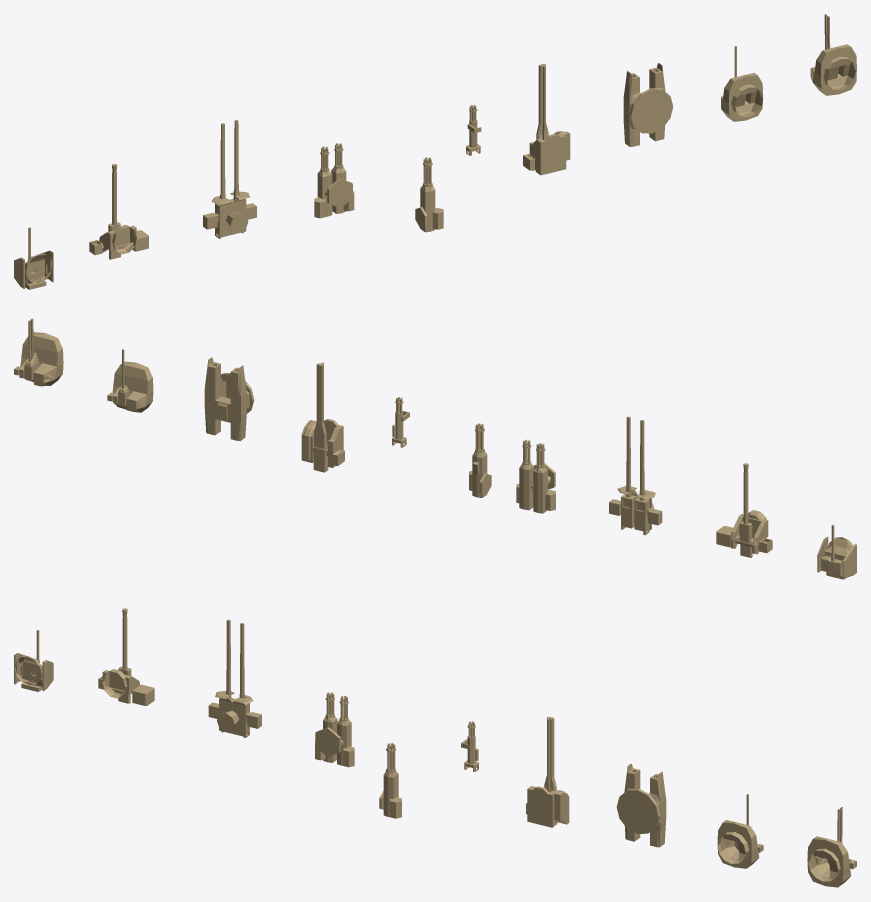
Rendered from пушки.fbx.
3 views of the same model, one above another, from view 1: azimuth 30°, elevation 25°; view 2: azimuth 150°, elevation 25°; view 3: azimuth 330°, elevation 25° (orthographic).
Visible parts, largest first — view 1: Cylinder060, Object019, Box016, Cylinder062, Cylinder057, Cylinder061, Object018, Cylinder059, Object020; view 2: Cylinder060, Box016, Object019, Cylinder062, Cylinder057, Object018, Cylinder061, Cylinder059, Object020, Cylinder058; view 3: Cylinder060, Object019, Box016, Cylinder062, Cylinder057, Cylinder061, Object018, Cylinder059, Object020, Cylinder058.
Part boxes in pixels (x1=…): Cylinder060: x1=623, y1=63, x2=673, y2=146; Object019: x1=203, y1=120, x2=256, y2=238; Box016: x1=523, y1=64, x2=570, y2=175; Cylinder062: x1=810, y1=14, x2=856, y2=95; Cylinder057: x1=314, y1=143, x2=354, y2=218; Cylinder061: x1=721, y1=46, x2=763, y2=121; Object018: x1=89, y1=164, x2=148, y2=259; Cylinder059: x1=14, y1=227, x2=53, y2=289; Object020: x1=415, y1=157, x2=443, y2=232; Cylinder060: x1=204, y1=357, x2=254, y2=441; Box016: x1=301, y1=362, x2=344, y2=472; Object019: x1=609, y1=416, x2=662, y2=535; Cylinder062: x1=14, y1=318, x2=63, y2=386; Cylinder057: x1=516, y1=439, x2=555, y2=513; Object018: x1=716, y1=463, x2=772, y2=557; Cylinder061: x1=107, y1=349, x2=153, y2=412; Cylinder059: x1=817, y1=525, x2=856, y2=579; Object020: x1=469, y1=423, x2=491, y2=497; Cylinder058: x1=392, y1=397, x2=409, y2=447; Cylinder060: x1=616, y1=763, x2=666, y2=847; Object019: x1=208, y1=619, x2=261, y2=737; Box016: x1=526, y1=716, x2=569, y2=827; Cylinder062: x1=807, y1=807, x2=856, y2=887; Cylinder057: x1=315, y1=692, x2=354, y2=767; Cylinder061: x1=717, y1=794, x2=763, y2=868; Object018: x1=98, y1=608, x2=154, y2=705; Cylinder059: x1=14, y1=630, x2=53, y2=691; Object020: x1=379, y1=743, x2=401, y2=818; Cylinder058: x1=461, y1=721, x2=478, y2=771.
Size of the model in its own units: 181 by 28.05 by 12.89.
